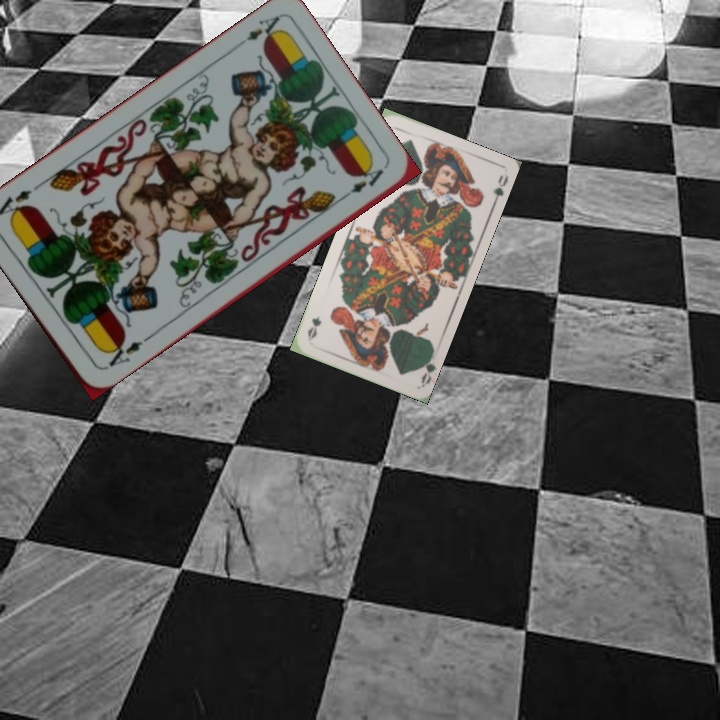EA: (230, 11, 284, 52), (100, 333, 152, 373)
GO: (415, 345, 437, 386)
